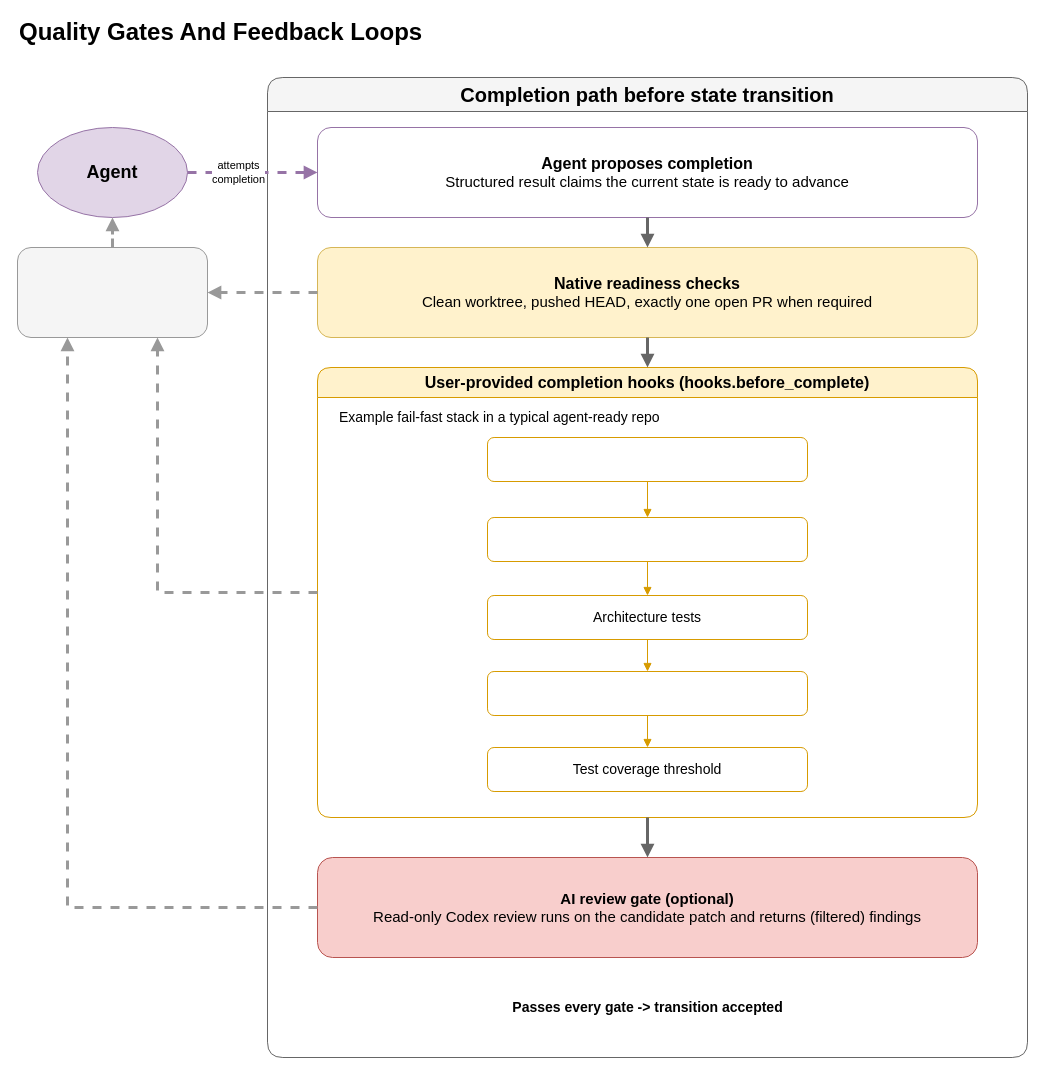
The diagram is 1045 pixels wide and 1075 high, and some of its shapes have lost their labels. Here are the shapes that lost their labels. From the top down, the centre of each, then its label:
At point 112,292: "If a gate fails, feedback goes back to the agent for another repair loop".
At point 647,459: "Linter".
At point 647,539: "Typecheck".
At point 647,693: "Unit tests".
